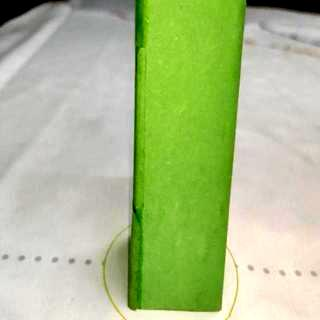greenbox: (127, 0, 250, 314)
